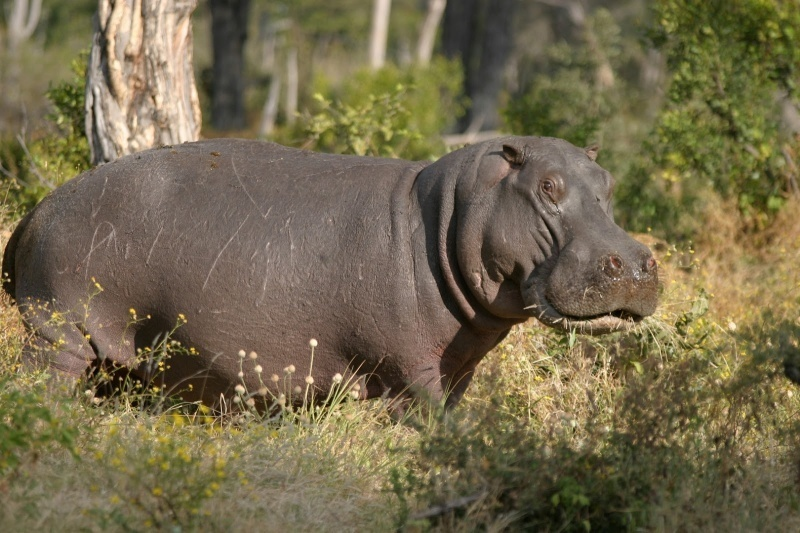hipopotamo: (1, 119, 670, 418)
